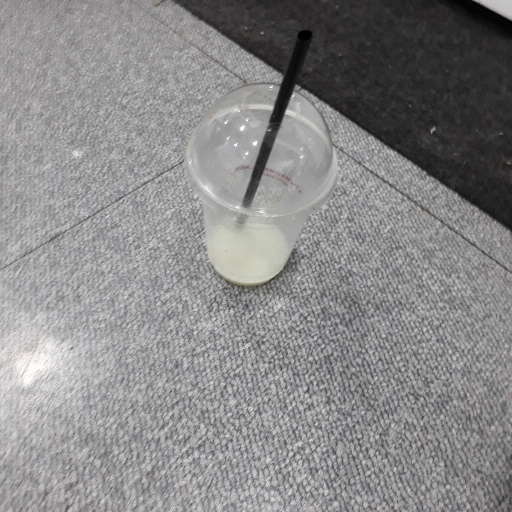Plastic_2: (184, 36, 340, 284)
